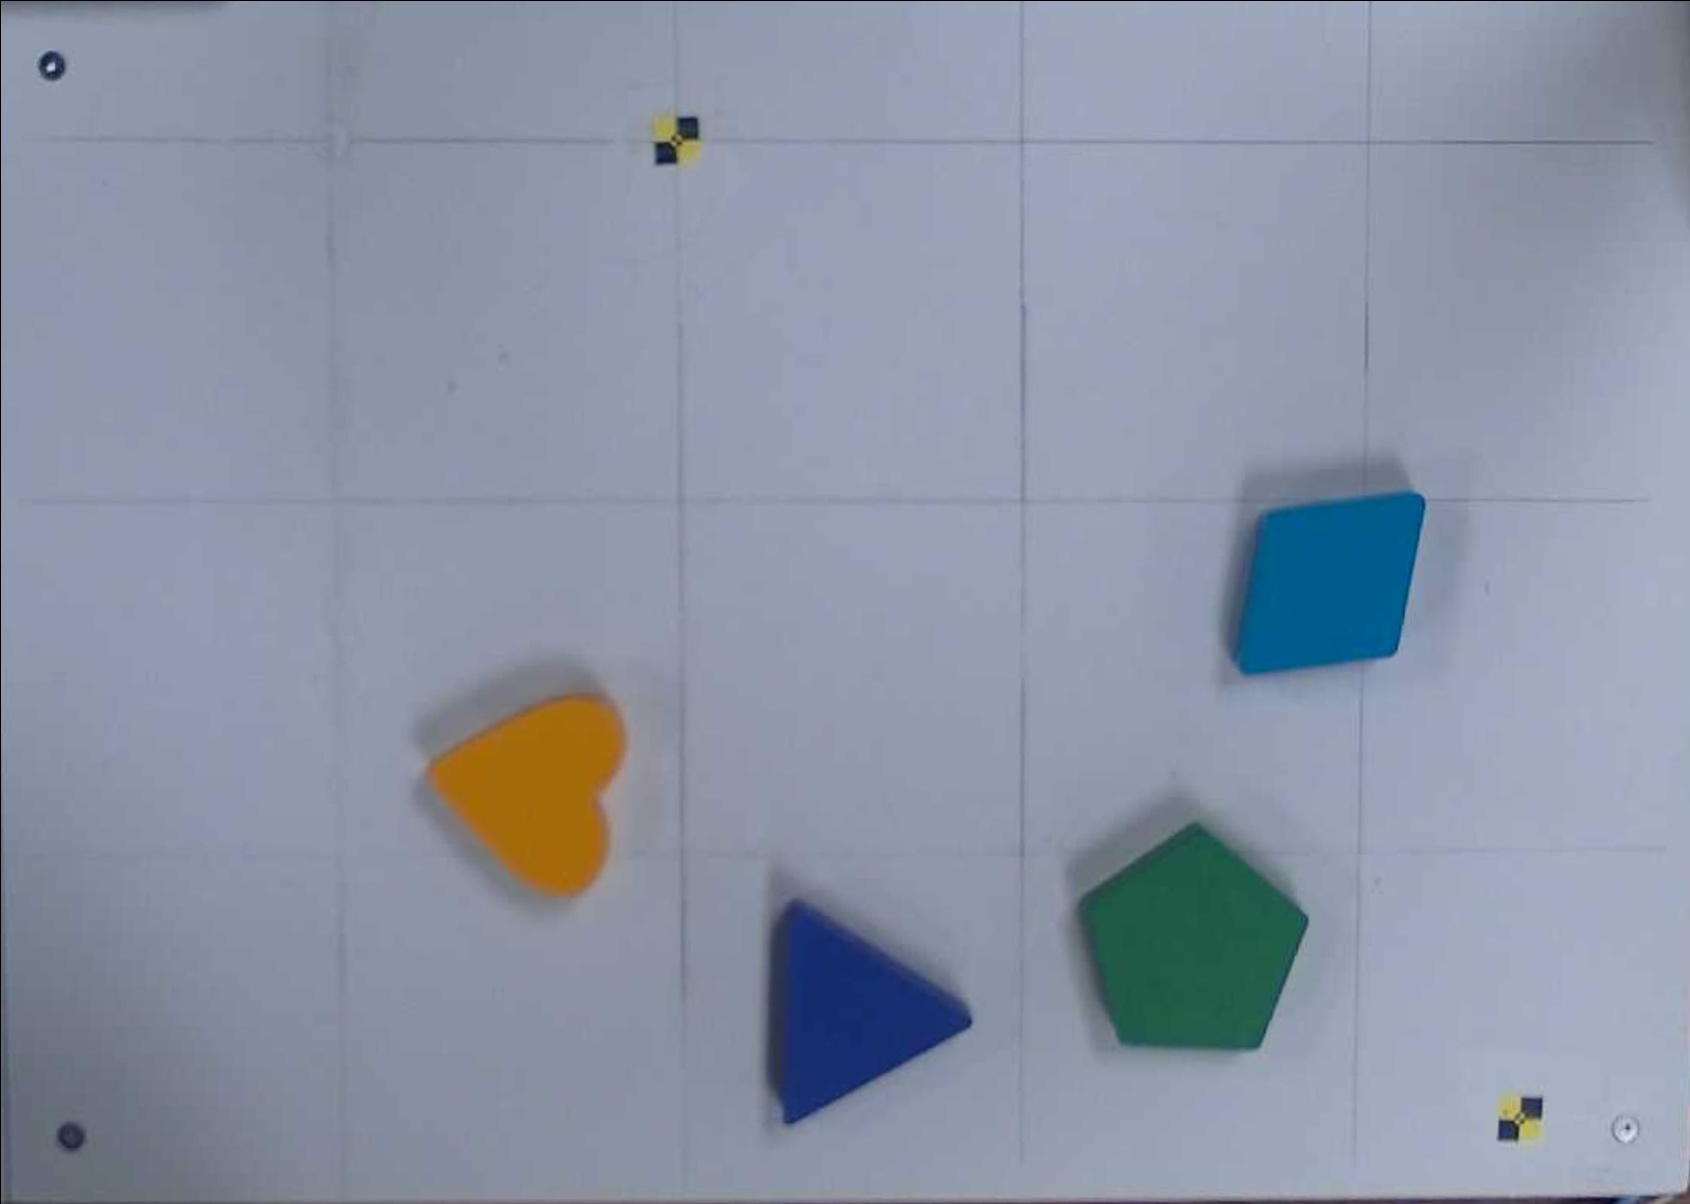Heart: (425, 696, 625, 895)
Parallelogram: (1234, 493, 1427, 675)
Pentagon: (1081, 822, 1308, 1052)
Triangle: (782, 900, 973, 1125)
